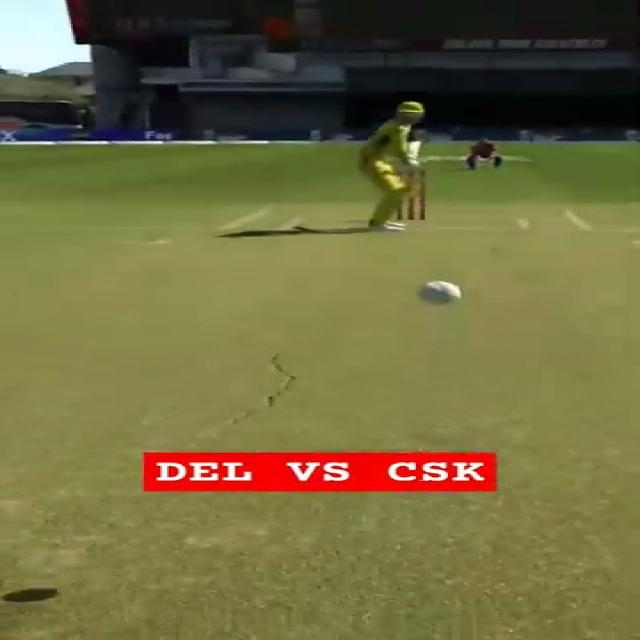ball: (412, 280, 464, 307)
